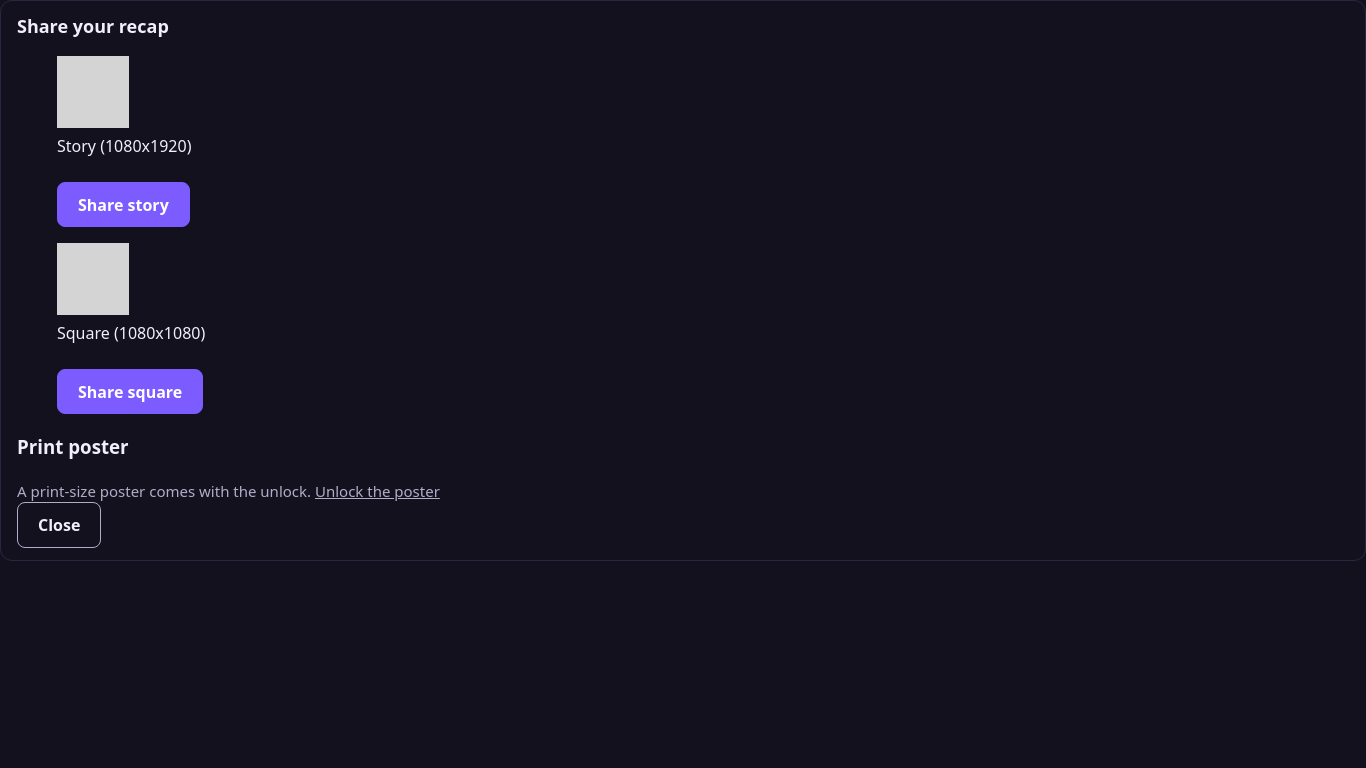
it: ShareSheet › downloads and shows the long-press hint otherwise
What coordinates should you click on to do the following:
click the button "Share square"
I would click on:
 (130, 392)
Its box is [57,369,203,414].
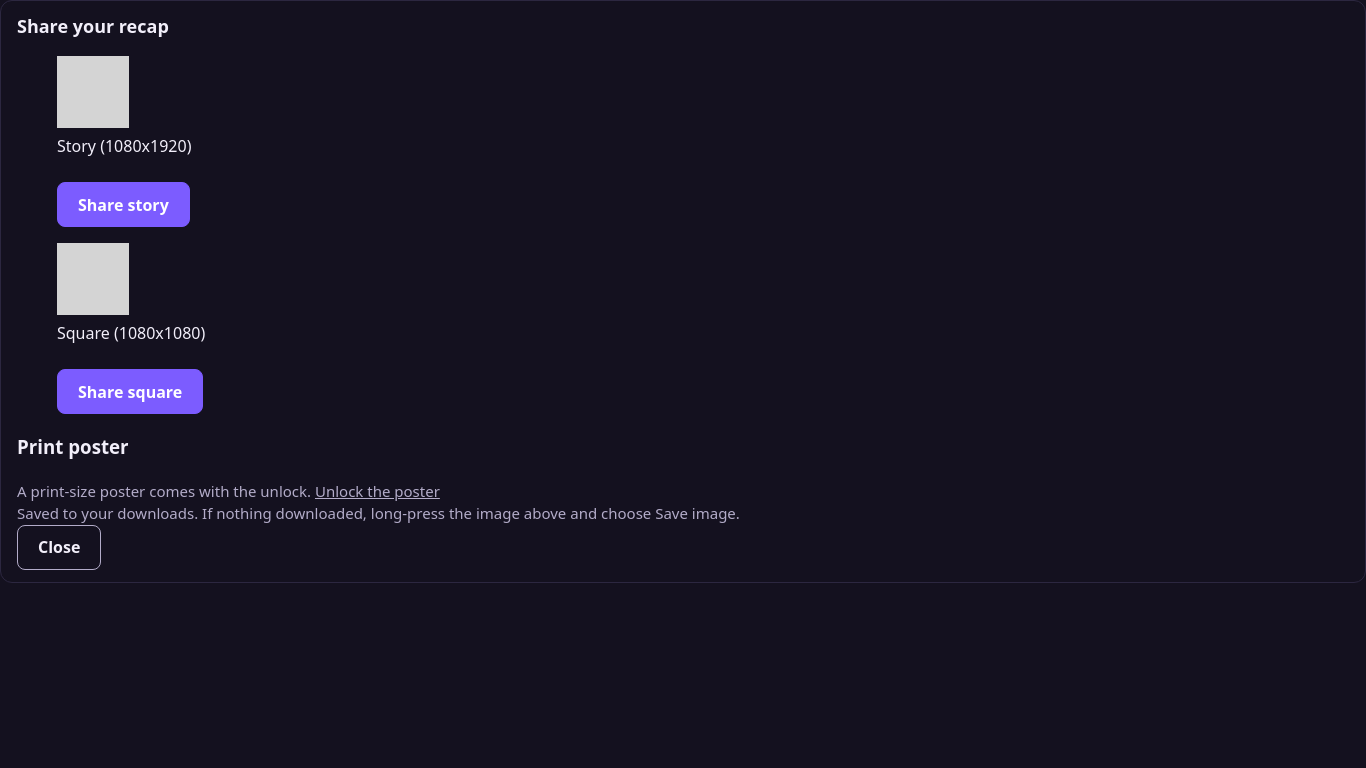
Check: the text with test id "share-hint" is shown, box [17,503,740,523]
